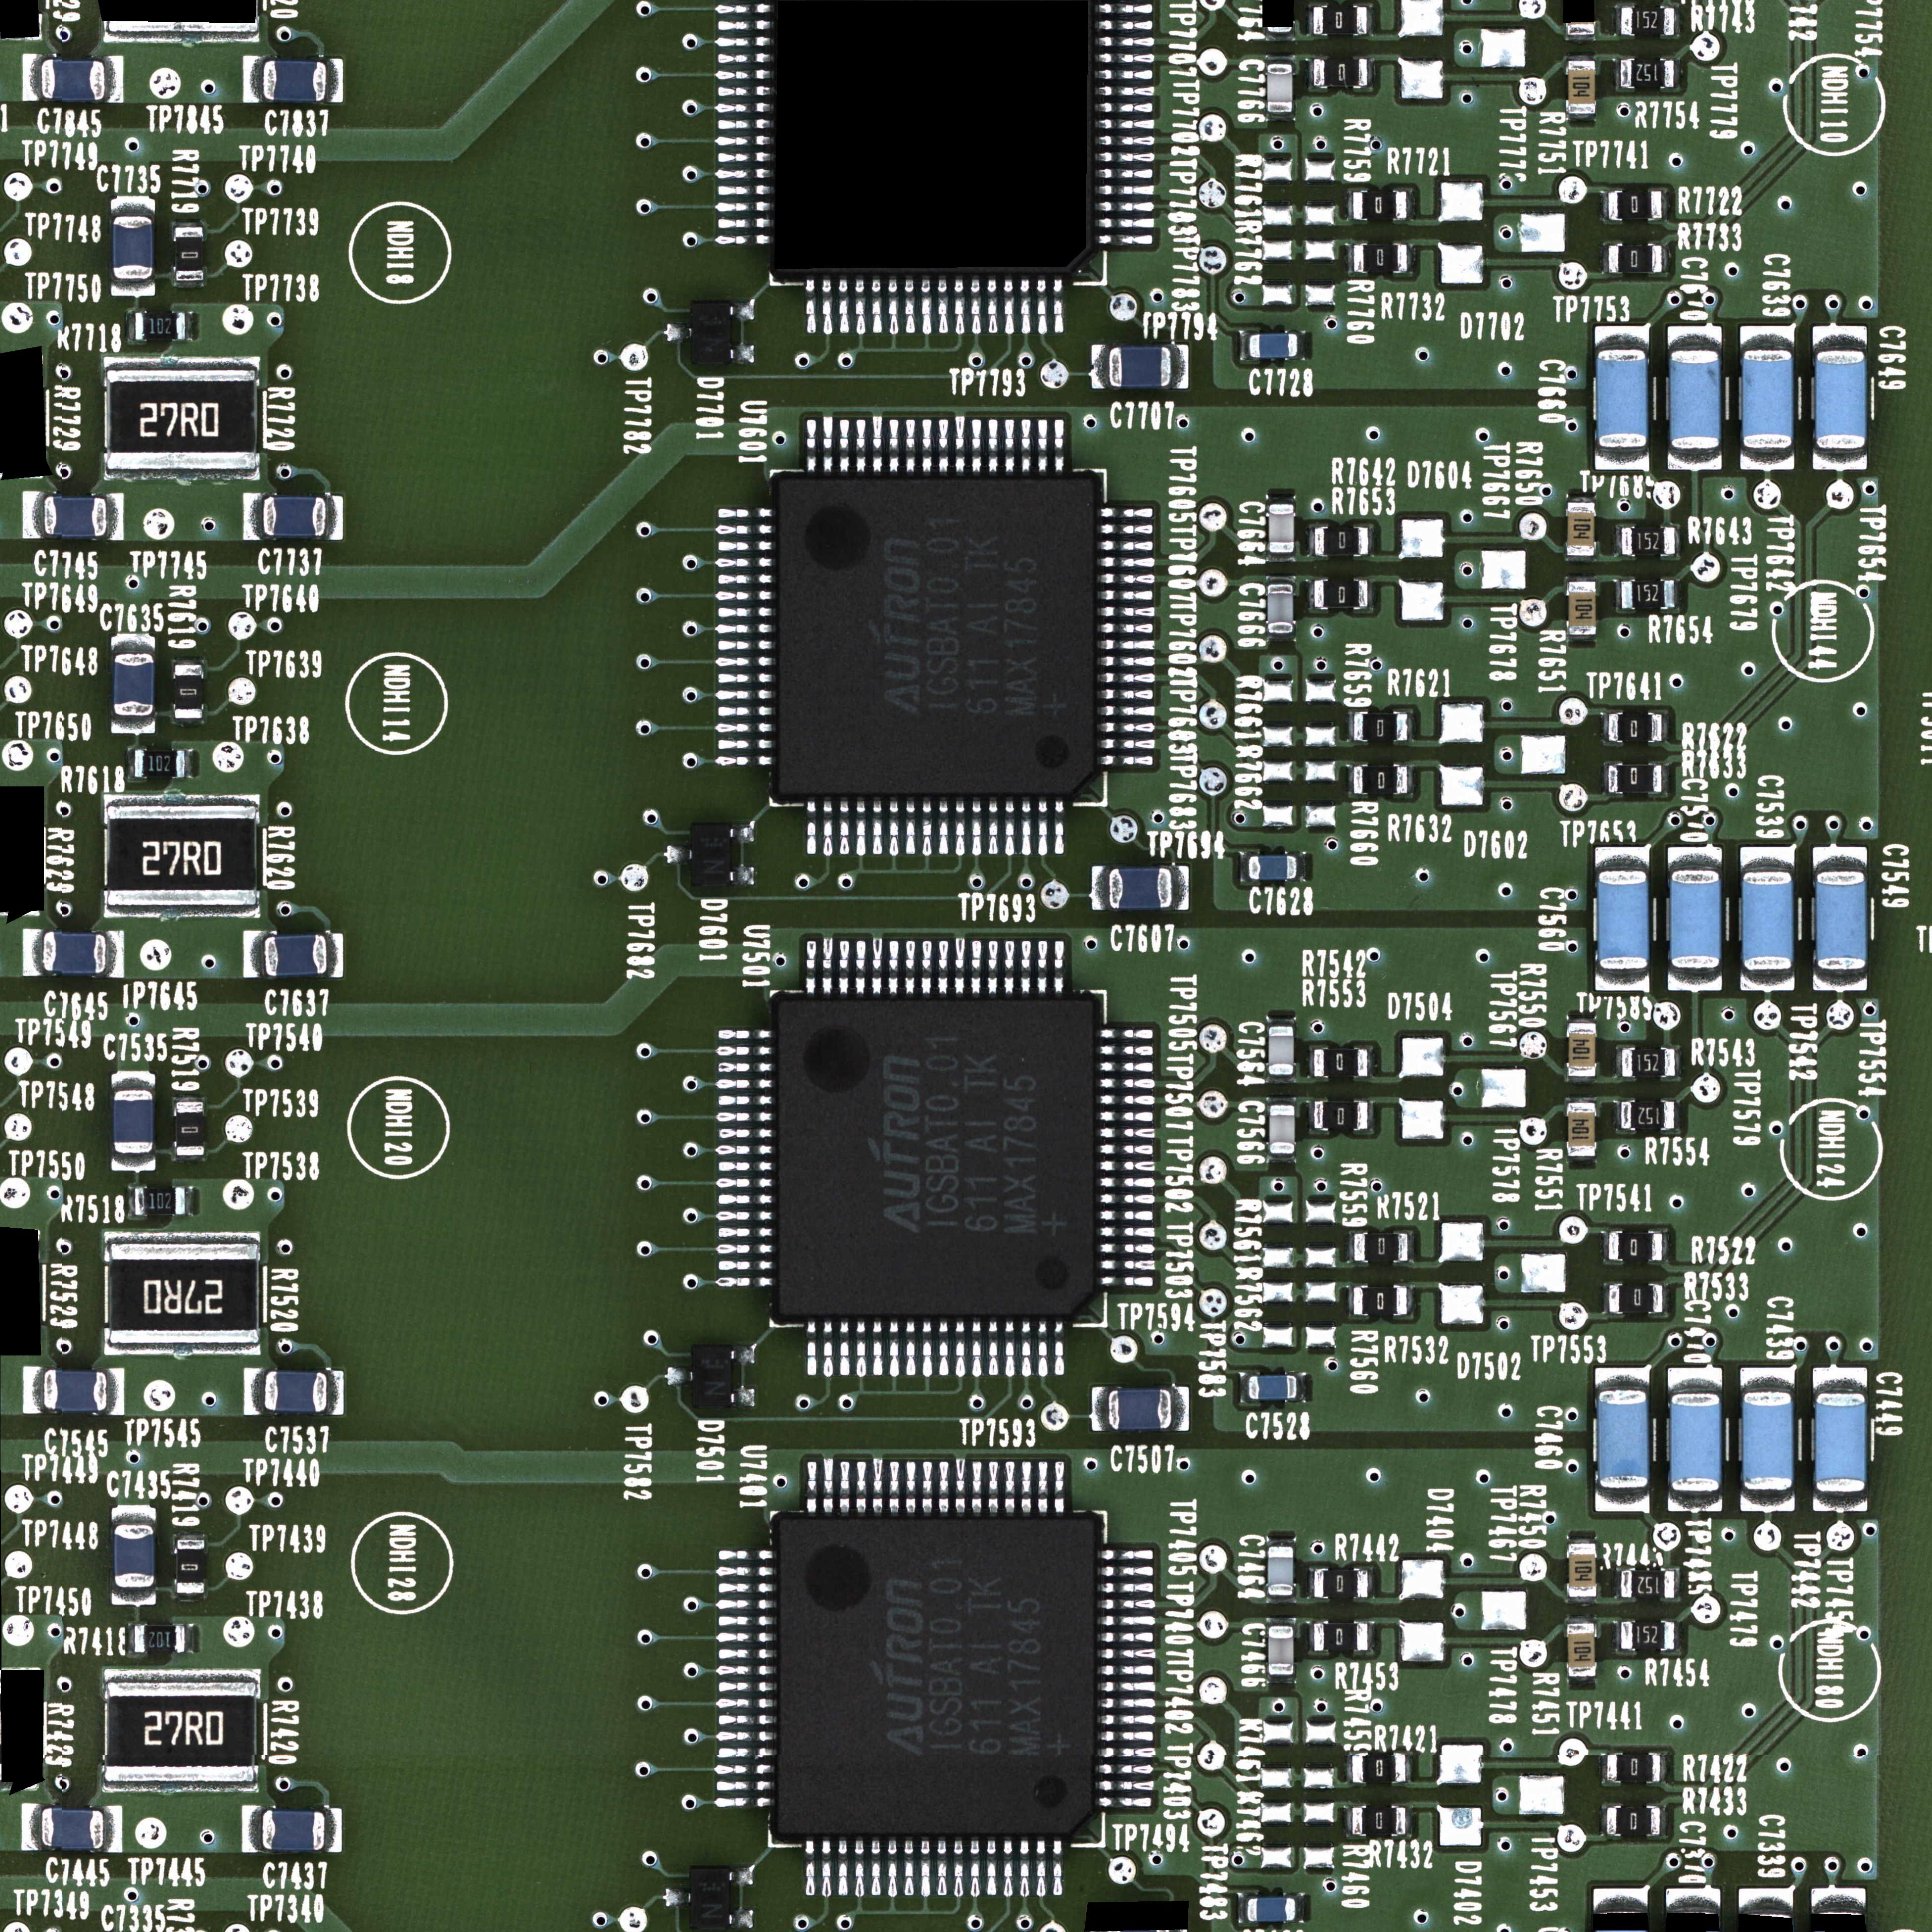Package: (777, 1516, 1093, 1835), (777, 479, 1097, 794), (777, 1000, 1093, 1313), (110, 1242, 260, 1343), (108, 807, 258, 906), (108, 370, 257, 469), (1817, 350, 1867, 449), (1817, 1392, 1867, 1491), (1743, 1391, 1792, 1490), (1743, 349, 1792, 448), (1670, 1392, 1720, 1491), (1598, 349, 1647, 448), (1598, 1389, 1647, 1488), (1670, 350, 1720, 448), (1743, 872, 1792, 970), (1815, 872, 1865, 970), (1670, 870, 1720, 966), (1599, 872, 1647, 968), (264, 934, 327, 977), (1108, 869, 1173, 909), (113, 653, 154, 717), (1108, 1389, 1171, 1430), (1109, 347, 1171, 387), (113, 1090, 152, 1154), (113, 216, 152, 280), (264, 1371, 327, 1410), (264, 1810, 327, 1849), (264, 62, 327, 101), (692, 303, 731, 366), (264, 497, 326, 536), (115, 1525, 154, 1587), (692, 1346, 731, 1408), (692, 824, 731, 886), (692, 1867, 729, 1928), (1608, 1752, 1660, 1783), (1313, 1049, 1368, 1077), (1608, 1284, 1663, 1313), (1313, 1622, 1368, 1651), (1313, 58, 1368, 87), (1353, 1233, 1408, 1261), (1568, 1104, 1596, 1157), (1568, 1622, 1596, 1675), (1568, 1023, 1596, 1076), (177, 1539, 205, 1592), (1568, 1543, 1596, 1596), (1315, 1569, 1368, 1598), (175, 665, 203, 718), (1353, 191, 1407, 219), (1315, 527, 1368, 556), (1608, 191, 1661, 219), (1353, 244, 1407, 272), (1315, 580, 1368, 609), (1352, 1753, 1405, 1782), (1621, 7, 1674, 35), (1352, 1808, 1405, 1836), (1353, 713, 1407, 741), (1606, 1806, 1660, 1835), (1313, 7, 1368, 34), (1353, 766, 1408, 793), (1568, 62, 1596, 113), (175, 228, 203, 280), (134, 1187, 186, 1215), (1569, 582, 1596, 635), (177, 1102, 203, 1155), (1568, 502, 1594, 556), (1608, 1233, 1661, 1260), (1621, 1571, 1674, 1598), (1621, 1102, 1674, 1129), (1608, 766, 1661, 793), (1622, 1049, 1675, 1076), (1315, 1102, 1368, 1129), (1621, 1622, 1674, 1649), (1353, 1288, 1407, 1315), (1621, 60, 1674, 87), (1608, 246, 1661, 272), (1608, 715, 1661, 741), (134, 750, 186, 777), (1622, 582, 1674, 609), (1622, 529, 1674, 556), (134, 1624, 186, 1651), (134, 313, 186, 340), (1267, 64, 1293, 111), (1269, 1546, 1293, 1596), (1249, 333, 1299, 357), (1269, 1626, 1293, 1675), (1269, 584, 1293, 633), (1270, 1104, 1295, 1154), (1269, 504, 1293, 552), (1269, 1026, 1293, 1074), (1249, 1375, 1297, 1399), (1247, 1897, 1295, 1921), (1249, 855, 1297, 879)
Solder: (104, 1668, 260, 1683), (103, 906, 262, 918), (101, 1782, 260, 1794), (104, 357, 260, 370), (104, 469, 260, 481), (104, 794, 260, 807), (103, 32, 260, 42), (104, 1231, 260, 1242), (104, 1345, 260, 1355), (1592, 1888, 1647, 1913), (1667, 1888, 1721, 1913), (1739, 1888, 1794, 1913), (1812, 1888, 1867, 1913), (1813, 1368, 1867, 1392), (1668, 1368, 1721, 1392), (1667, 326, 1721, 349), (1741, 847, 1794, 870), (1813, 847, 1867, 870), (1596, 1490, 1649, 1513), (1741, 1368, 1794, 1391), (1813, 326, 1867, 349), (1596, 326, 1649, 349), (1741, 1491, 1796, 1513), (1813, 970, 1868, 991), (1594, 449, 1649, 471), (1812, 449, 1867, 471), (1668, 970, 1721, 991), (1741, 449, 1794, 471), (1741, 327, 1794, 349), (1596, 847, 1649, 869), (1596, 1368, 1649, 1389), (1668, 449, 1721, 471), (1668, 1491, 1721, 1513), (1813, 1493, 1868, 1513), (1668, 849, 1723, 869), (1741, 971, 1794, 991), (1596, 971, 1649, 991), (23, 929, 42, 977), (21, 1803, 41, 1851), (244, 931, 264, 978), (242, 1805, 262, 1852), (23, 492, 42, 538), (23, 1368, 42, 1414), (244, 1369, 264, 1415), (1097, 117, 1157, 131), (1097, 200, 1157, 214), (23, 53, 41, 101), (104, 1805, 122, 1852), (106, 931, 124, 978), (1097, 18, 1155, 32), (1097, 150, 1155, 165), (1097, 218, 1155, 232), (106, 494, 124, 540), (106, 57, 124, 103), (244, 57, 262, 103), (244, 494, 262, 540), (1099, 101, 1155, 115), (111, 1154, 156, 1171), (111, 280, 156, 297), (111, 717, 156, 734), (111, 1072, 156, 1090), (111, 198, 156, 216), (326, 495, 343, 540), (111, 635, 156, 653), (1090, 345, 1108, 389), (111, 1507, 156, 1525), (1005, 800, 1019, 855), (821, 280, 835, 334), (837, 280, 851, 334), (853, 280, 867, 334), (904, 280, 918, 334), (1003, 280, 1017, 334), (1035, 280, 1049, 334), (715, 1599, 777, 1612), (715, 1746, 777, 1759), (108, 1368, 124, 1415), (715, 1226, 775, 1238), (715, 1566, 775, 1578), (713, 168, 773, 180), (1097, 85, 1157, 97), (1097, 134, 1157, 147), (1097, 168, 1157, 180), (1097, 184, 1157, 196), (1097, 234, 1157, 246), (1173, 865, 1189, 911), (327, 932, 343, 978), (1097, 1615, 1155, 1628), (715, 1077, 773, 1090), (1097, 1647, 1155, 1660), (1097, 1730, 1155, 1743), (1097, 1566, 1155, 1578), (1097, 1746, 1155, 1759), (1097, 1582, 1155, 1594), (1099, 1697, 1157, 1709), (715, 150, 773, 163), (715, 134, 773, 147), (713, 85, 771, 97), (713, 69, 771, 81), (713, 35, 771, 48), (713, 19, 771, 32), (1097, 69, 1155, 81), (111, 1589, 156, 1605), (326, 1808, 341, 1852), (327, 1371, 343, 1415), (1092, 1387, 1108, 1431), (327, 58, 343, 103), (1173, 345, 1189, 389), (1173, 1387, 1189, 1431), (1092, 865, 1108, 909), (717, 1028, 773, 1040), (1099, 1276, 1155, 1288), (1099, 639, 1155, 651), (1099, 704, 1155, 717), (1099, 1598, 1155, 1610), (1097, 1631, 1154, 1644), (1099, 1242, 1155, 1254), (715, 218, 771, 230), (715, 200, 771, 212), (715, 184, 771, 196), (715, 119, 771, 131), (715, 101, 771, 113), (1099, 35, 1155, 48), (1099, 51, 1155, 64), (1100, 1192, 1155, 1205), (1100, 1177, 1155, 1189), (1099, 540, 1154, 552), (718, 639, 773, 651), (1100, 1127, 1155, 1139), (805, 280, 817, 334), (870, 280, 883, 334), (888, 280, 901, 334), (954, 280, 966, 334), (938, 280, 950, 334), (920, 280, 932, 334), (987, 280, 1000, 334), (970, 280, 982, 334), (1019, 280, 1031, 334), (1051, 280, 1063, 334), (1099, 2, 1154, 14), (987, 1461, 1000, 1514), (888, 1461, 901, 1514), (904, 1461, 916, 1514), (805, 1322, 817, 1375), (715, 1665, 775, 1675), (715, 1764, 775, 1775), (713, 1798, 773, 1808), (715, 1177, 773, 1187), (718, 1615, 777, 1626), (715, 656, 773, 667), (715, 722, 773, 732), (715, 524, 773, 534), (715, 1244, 773, 1254), (715, 1145, 773, 1155), (1097, 1780, 1155, 1790), (715, 623, 773, 633), (715, 690, 773, 701), (715, 755, 773, 766), (715, 1111, 773, 1122), (1097, 1714, 1155, 1725), (821, 1840, 832, 1898), (717, 1780, 775, 1790), (717, 1631, 775, 1642), (713, 53, 771, 64), (713, 4, 771, 14), (717, 1697, 773, 1707), (872, 1458, 883, 1514), (872, 938, 883, 994), (718, 1714, 775, 1725), (872, 416, 883, 472), (1099, 656, 1155, 667), (971, 800, 982, 856), (1099, 557, 1155, 568), (955, 416, 966, 472), (718, 1681, 775, 1691), (1097, 1665, 1154, 1675), (971, 1320, 982, 1376), (1099, 1226, 1155, 1237), (1099, 672, 1155, 683), (985, 1840, 996, 1897), (888, 1320, 899, 1376), (1099, 573, 1155, 584), (1099, 722, 1155, 732), (1099, 738, 1155, 748), (823, 800, 833, 856), (888, 800, 899, 856), (922, 800, 932, 856), (715, 557, 771, 568), (717, 740, 773, 750), (715, 1046, 771, 1056), (823, 1322, 833, 1378), (1099, 1681, 1155, 1691), (1097, 1764, 1154, 1775), (855, 1840, 865, 1897), (904, 1840, 915, 1897), (920, 1840, 931, 1897), (954, 1840, 964, 1897), (970, 1840, 980, 1897), (1019, 1840, 1030, 1897), (1035, 1840, 1046, 1897), (1053, 1840, 1063, 1897), (856, 1322, 867, 1378), (922, 1322, 932, 1378), (715, 234, 771, 244), (805, 939, 816, 994), (718, 1260, 773, 1270), (718, 672, 773, 683), (1100, 1095, 1155, 1106), (955, 1458, 966, 1513), (1099, 1550, 1154, 1560), (1037, 419, 1047, 474), (1097, 1796, 1152, 1806), (718, 607, 773, 617), (987, 800, 998, 855), (718, 1161, 773, 1171), (718, 1649, 773, 1660), (987, 1320, 998, 1375), (805, 1840, 816, 1895), (718, 706, 773, 717), (1099, 755, 1154, 766), (1100, 607, 1155, 617), (1099, 589, 1154, 600), (1099, 1210, 1154, 1221), (1099, 623, 1154, 633), (1003, 939, 1014, 994), (906, 800, 916, 855), (1037, 1322, 1047, 1376), (823, 939, 833, 994), (1099, 508, 1154, 518), (1099, 688, 1154, 699), (872, 800, 883, 855), (938, 800, 948, 855), (1021, 800, 1031, 855), (1054, 800, 1065, 855), (718, 508, 773, 518), (938, 939, 948, 994), (971, 939, 982, 994), (987, 939, 998, 994), (718, 1062, 773, 1072), (717, 1210, 771, 1221), (870, 1840, 881, 1895), (718, 1550, 773, 1560), (1100, 1260, 1155, 1270), (1100, 1161, 1155, 1171), (1100, 1077, 1155, 1088), (1099, 1062, 1154, 1072), (938, 1322, 948, 1376), (955, 1322, 966, 1376), (1005, 1322, 1016, 1376), (1021, 1322, 1031, 1376), (888, 419, 899, 472), (971, 1461, 982, 1514), (718, 1095, 771, 1106), (971, 419, 982, 472), (1037, 941, 1047, 994), (718, 573, 771, 584), (888, 941, 899, 994), (1100, 524, 1154, 534), (856, 1461, 867, 1514), (1100, 1046, 1154, 1056), (1005, 419, 1016, 472), (856, 419, 867, 472), (1053, 941, 1063, 994), (904, 941, 915, 994), (839, 941, 849, 994), (922, 419, 932, 472), (987, 419, 998, 472), (1021, 419, 1031, 472), (718, 541, 771, 552), (1021, 941, 1031, 994), (839, 1322, 849, 1375), (807, 1461, 817, 1514), (1100, 1145, 1154, 1155), (1100, 1111, 1154, 1122), (872, 1322, 883, 1375), (906, 1322, 916, 1375), (1054, 1322, 1065, 1375), (663, 1888, 692, 1907), (665, 1366, 694, 1385), (1037, 1461, 1047, 1513), (1005, 1461, 1016, 1513), (922, 941, 932, 993), (1054, 1461, 1065, 1513), (922, 1461, 932, 1513), (938, 1461, 948, 1513), (1021, 1461, 1031, 1513), (665, 846, 692, 865), (1003, 1840, 1012, 1898), (715, 591, 773, 600), (715, 1277, 773, 1286), (888, 1840, 897, 1898), (715, 1732, 773, 1741), (955, 938, 964, 994), (823, 416, 832, 472), (856, 800, 865, 856), (955, 800, 964, 856), (1039, 800, 1047, 856), (839, 1840, 847, 1897), (938, 1840, 947, 1897), (718, 1583, 775, 1592), (663, 324, 692, 341), (807, 800, 816, 855), (840, 800, 849, 855), (856, 939, 865, 994), (824, 1458, 833, 1513), (731, 343, 755, 363), (731, 1387, 755, 1407), (731, 865, 755, 885), (729, 1909, 754, 1928), (1100, 1030, 1154, 1039), (1054, 419, 1063, 472), (718, 1129, 771, 1138), (807, 419, 816, 472), (840, 419, 849, 472), (906, 419, 915, 472), (939, 419, 948, 472), (718, 1194, 771, 1203), (840, 1461, 849, 1513), (731, 301, 754, 320), (731, 1346, 755, 1364), (729, 1867, 754, 1884), (731, 824, 755, 842), (1564, 1614, 1598, 1624), (1568, 1677, 1596, 1690), (1295, 1891, 1306, 1923), (1237, 1891, 1247, 1923), (1265, 1154, 1297, 1164), (1238, 331, 1249, 361), (1237, 1893, 1247, 1923), (1267, 1536, 1297, 1546), (1267, 1016, 1297, 1026), (1267, 552, 1297, 563), (1265, 494, 1295, 504), (1343, 242, 1353, 272), (1265, 111, 1295, 122), (126, 1184, 134, 1219), (1306, 1100, 1315, 1136), (1297, 1373, 1307, 1401), (126, 310, 134, 341), (186, 1185, 195, 1217), (126, 1622, 134, 1654), (1238, 1371, 1247, 1403), (1343, 1805, 1352, 1836), (1238, 851, 1247, 883), (1306, 579, 1315, 610), (1566, 1014, 1598, 1023), (1566, 1596, 1598, 1605), (1566, 494, 1598, 502), (175, 1155, 205, 1164), (186, 1624, 195, 1654), (1299, 331, 1307, 361), (1267, 1675, 1297, 1684), (1297, 851, 1306, 881), (1345, 764, 1353, 794), (1265, 55, 1295, 64), (1599, 191, 1608, 221), (1612, 1100, 1621, 1131), (1599, 1231, 1608, 1261), (1265, 32, 1295, 41), (1267, 633, 1295, 642), (1407, 244, 1415, 272), (1568, 113, 1596, 122), (1612, 58, 1621, 87), (172, 718, 205, 725), (1564, 575, 1598, 582), (172, 219, 203, 226), (173, 1532, 205, 1539), (1368, 1568, 1375, 1599), (1265, 1596, 1297, 1603), (1368, 1100, 1375, 1132), (1368, 579, 1375, 610), (1407, 189, 1414, 221), (1345, 189, 1352, 221), (1368, 57, 1375, 88), (1368, 4, 1375, 35), (1614, 1046, 1621, 1077), (1675, 1046, 1683, 1077), (1601, 1283, 1608, 1315), (1614, 1621, 1621, 1652), (1675, 1621, 1683, 1652), (1599, 1805, 1606, 1836), (1661, 763, 1668, 794), (1601, 711, 1608, 743), (1661, 711, 1668, 743), (1614, 579, 1621, 610), (1614, 525, 1621, 557), (1564, 34, 1596, 41), (173, 280, 203, 287), (173, 658, 203, 665), (127, 748, 134, 778), (175, 1594, 205, 1601), (1407, 1806, 1414, 1836), (1345, 1753, 1352, 1783), (1307, 1622, 1315, 1652), (1368, 1622, 1375, 1652), (1307, 1568, 1315, 1598), (1267, 1619, 1297, 1626), (1407, 1284, 1414, 1315), (1267, 1097, 1297, 1104), (1267, 1076, 1297, 1083), (1408, 711, 1415, 741), (1307, 527, 1315, 557), (1368, 527, 1375, 557), (1306, 58, 1313, 88), (1306, 7, 1313, 37), (1566, 53, 1596, 60), (1674, 58, 1681, 88), (1661, 191, 1668, 221), (1601, 244, 1608, 274), (1674, 1100, 1681, 1131), (1566, 635, 1596, 642), (186, 311, 193, 340), (186, 748, 193, 777), (1346, 713, 1353, 741), (1568, 1536, 1596, 1543), (1599, 1755, 1606, 1783), (1660, 1806, 1667, 1835), (1661, 246, 1668, 272), (1348, 1230, 1353, 1263), (1408, 1230, 1414, 1263), (1307, 1046, 1313, 1079), (1368, 1046, 1373, 1079), (173, 1097, 205, 1102), (1674, 5, 1679, 37), (1566, 1097, 1598, 1102), (1566, 1157, 1598, 1162), (1663, 1230, 1668, 1261), (1663, 1283, 1668, 1315), (1615, 1568, 1621, 1599), (1675, 1568, 1681, 1599), (1603, 763, 1608, 794), (1675, 579, 1681, 610), (1674, 527, 1679, 559), (1564, 556, 1596, 561), (1407, 1753, 1412, 1783), (1346, 1284, 1352, 1315), (1408, 764, 1414, 794), (1615, 5, 1621, 35), (1566, 1076, 1596, 1081), (1661, 1753, 1667, 1783), (1267, 577, 1295, 582)
